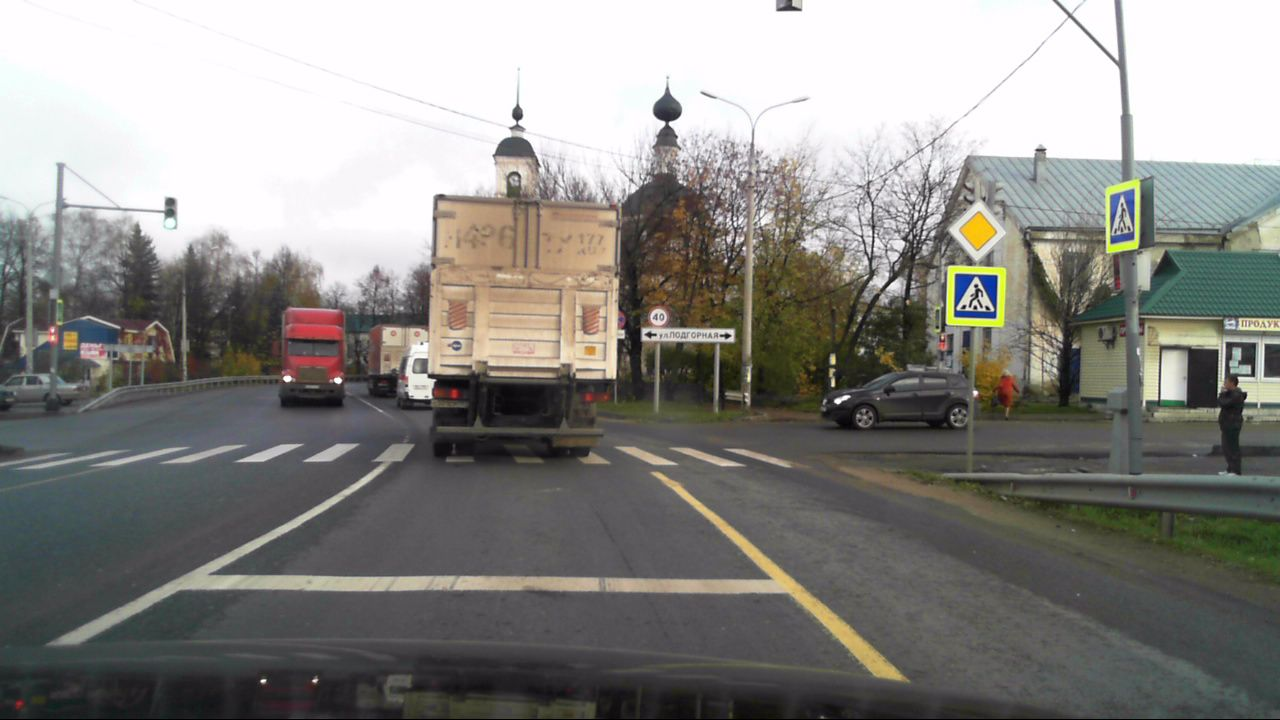speed_warning_40: (649, 306, 669, 327)
